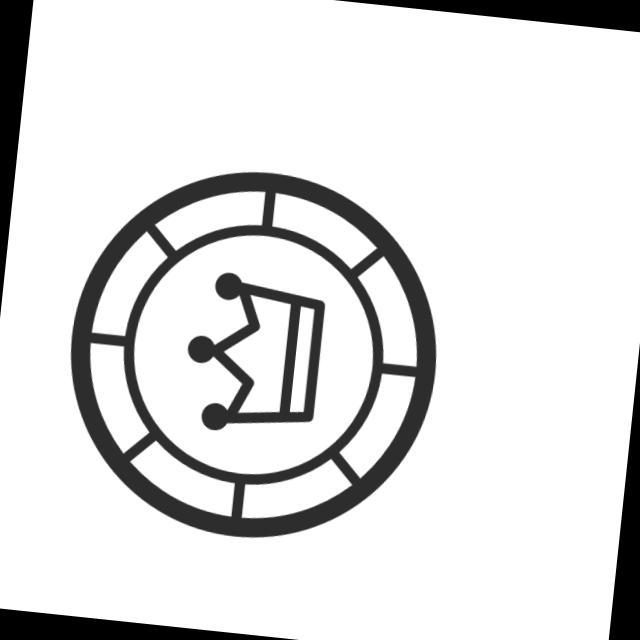coin: (43, 146, 462, 563)
